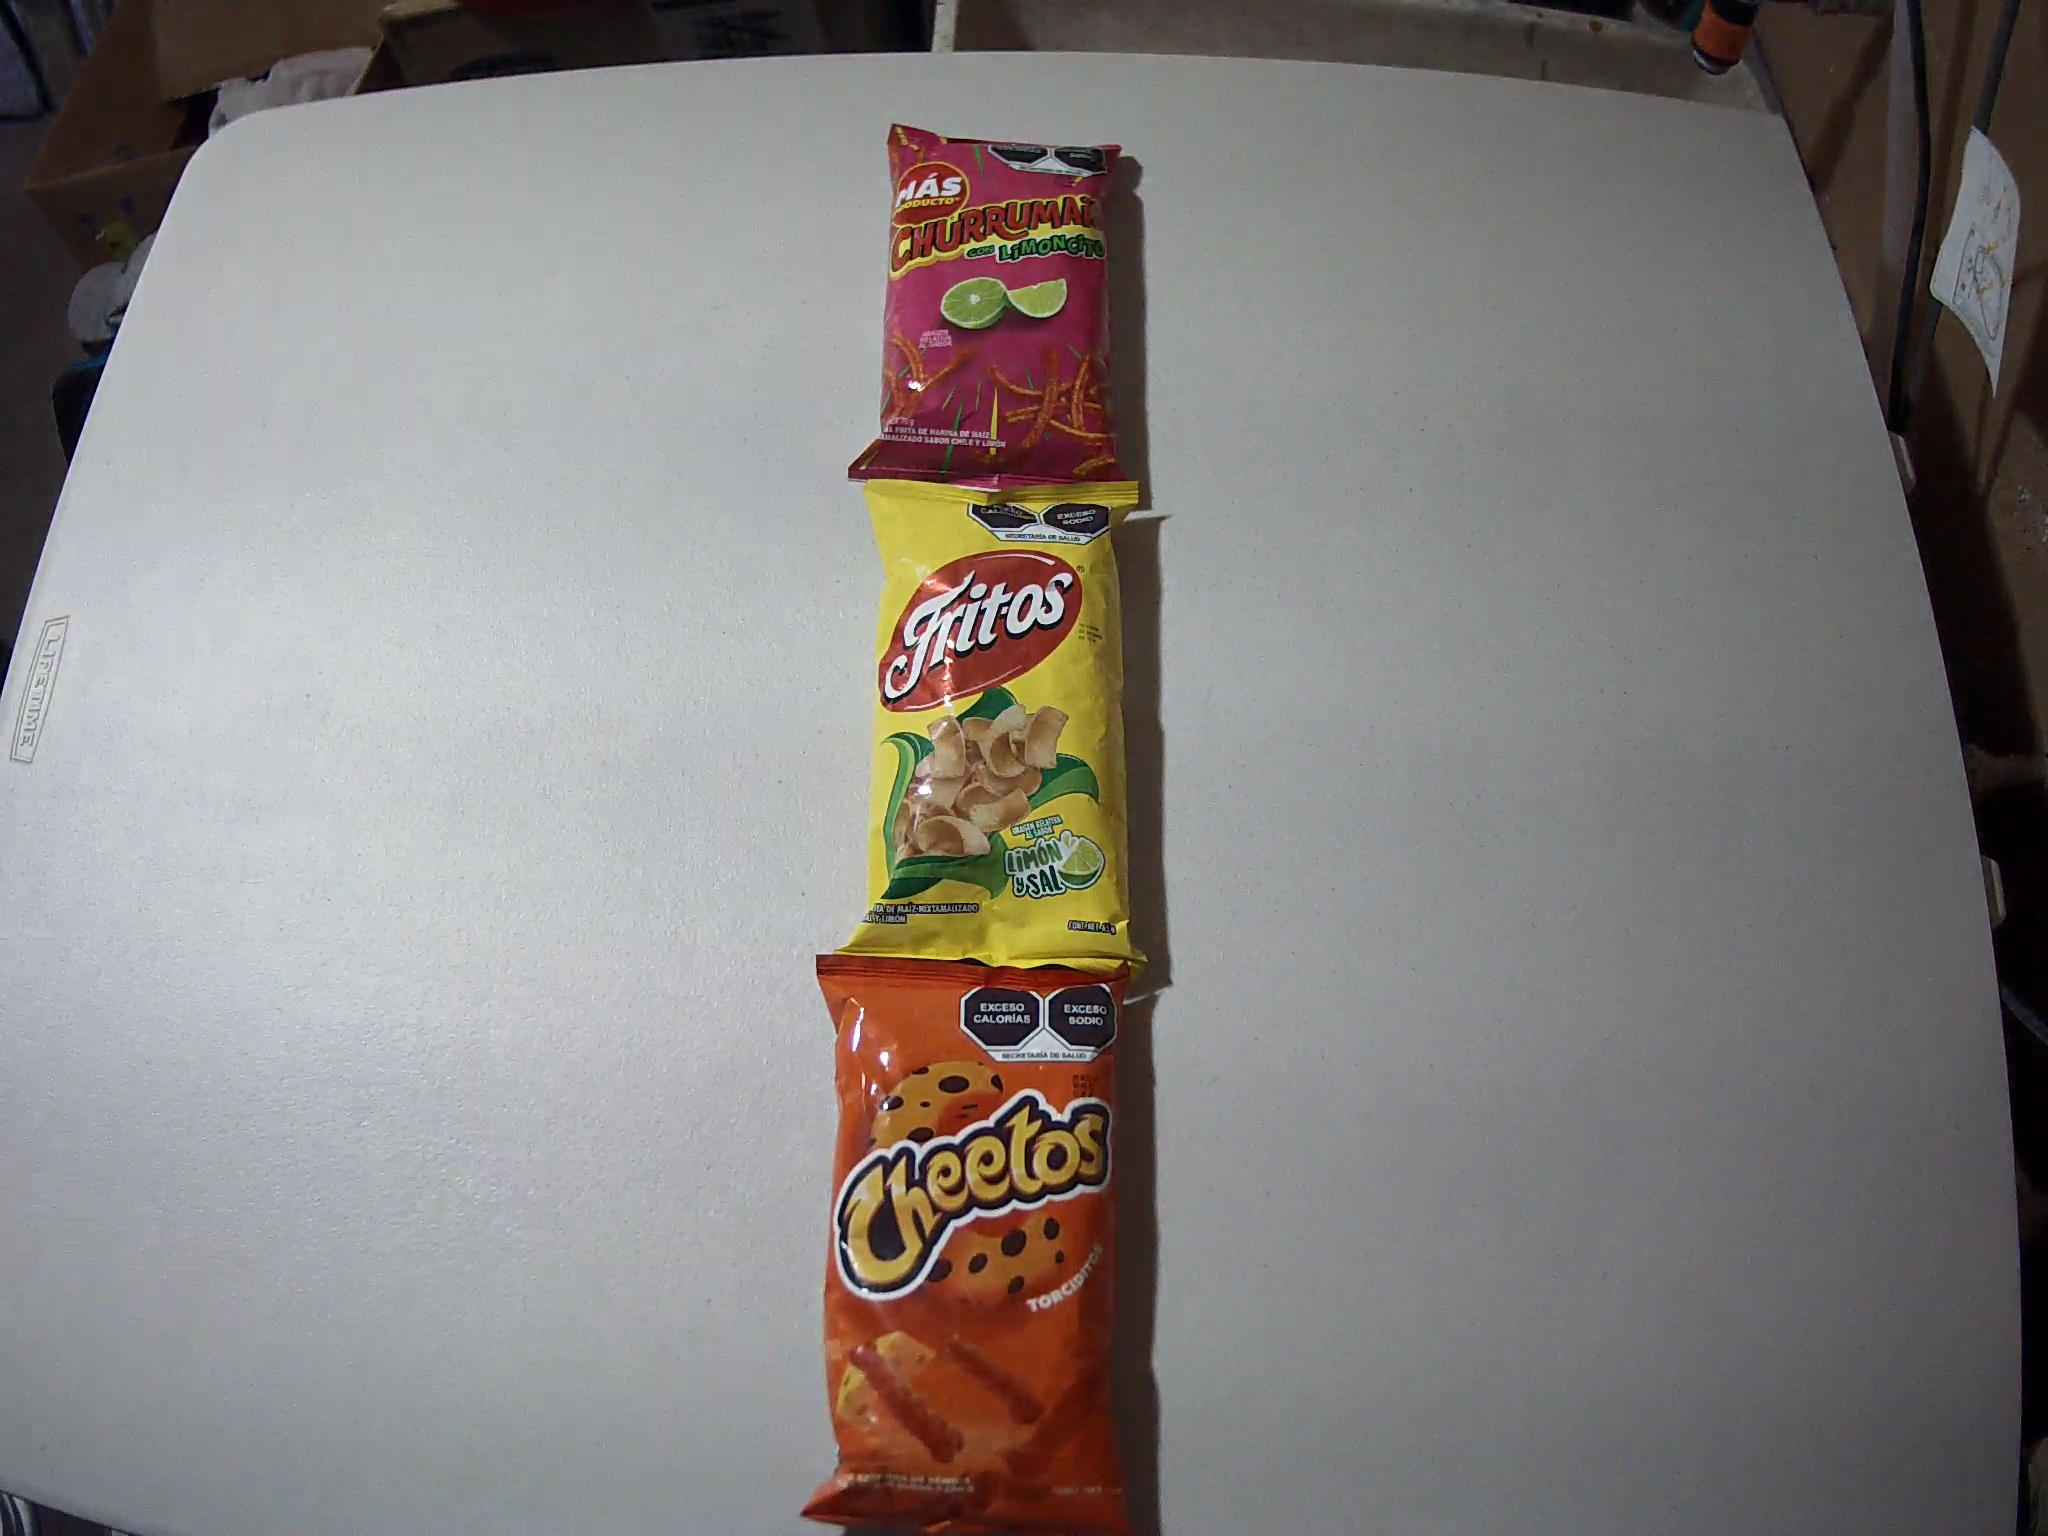CheetosTorciditos_55_F: (801, 954, 1135, 1536)
Churrumais_70_F: (848, 123, 1127, 481)
FritosSalLimon_65_F: (842, 478, 1153, 971)
